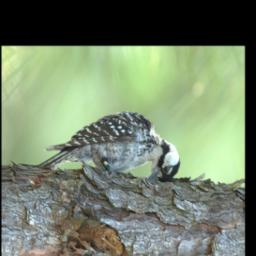Woodpecker: (37, 107, 181, 184)
